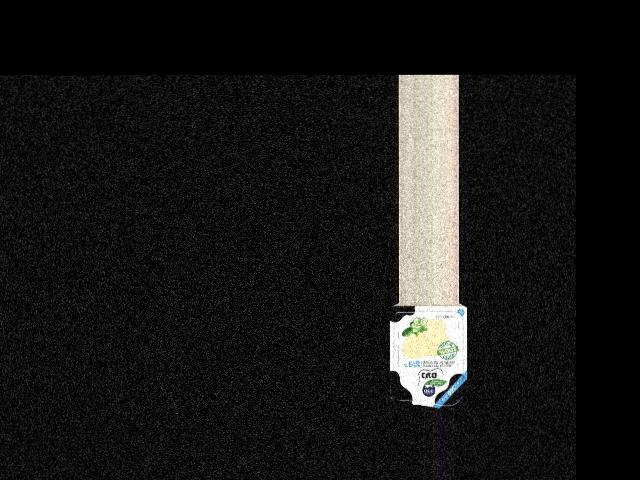cheese: (385, 302, 471, 406)
